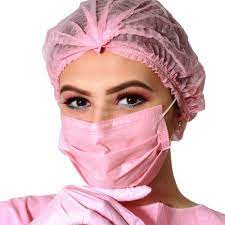with_mask_and_cap: (47, 1, 180, 191)
